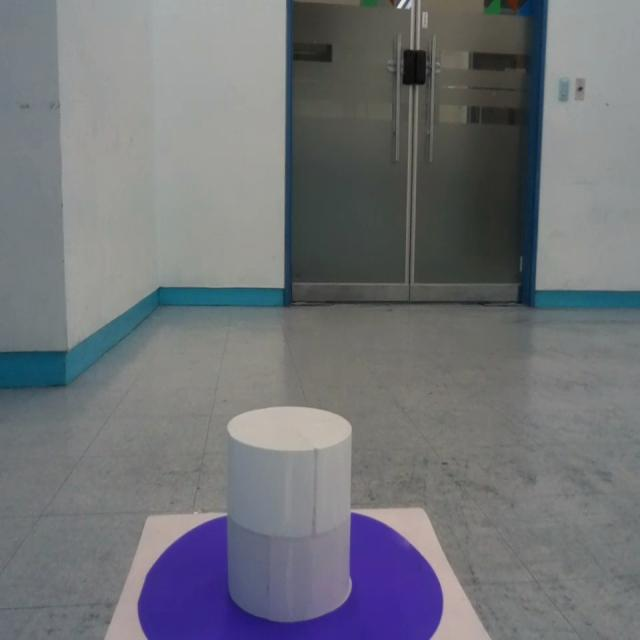cylinder: (225, 406, 353, 620)
